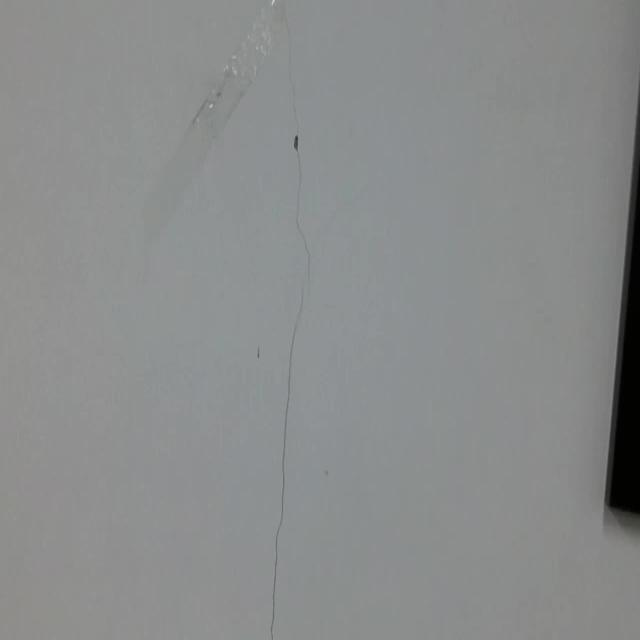Crack: (254, 0, 336, 640)
